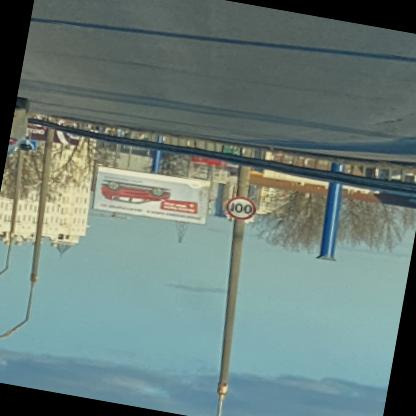speedlimit: (220, 196, 254, 224)
